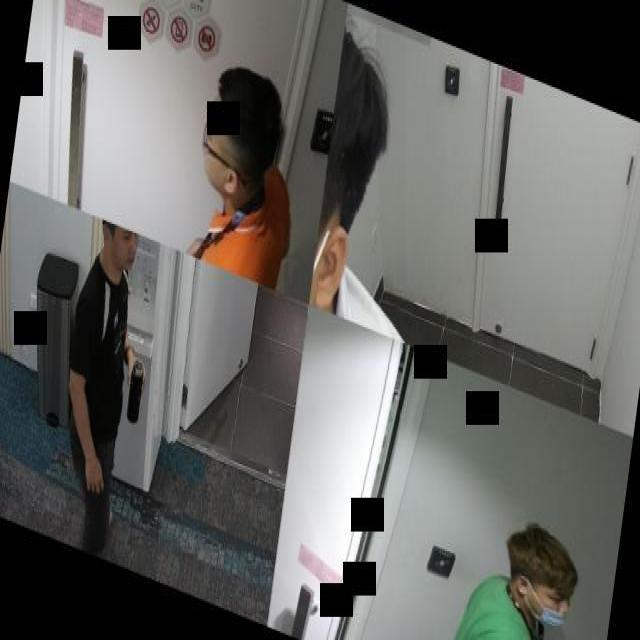hairnet: (535, 578, 573, 630)
